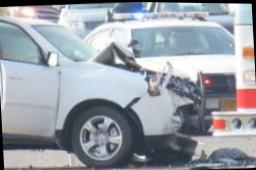Bonnet: (90, 36, 201, 92)
Bumper: (128, 89, 195, 133)
